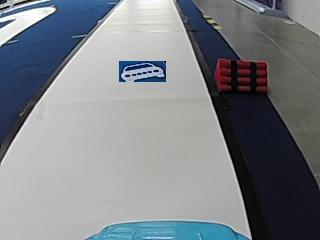bomb: (214, 60, 269, 92)
